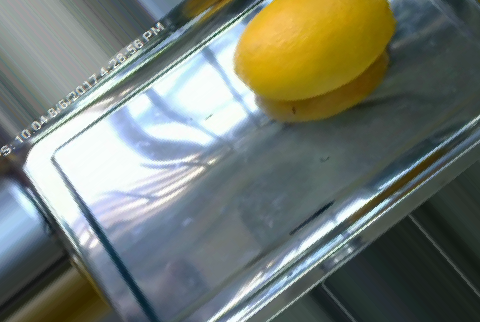Orange: (231, 0, 397, 102)
